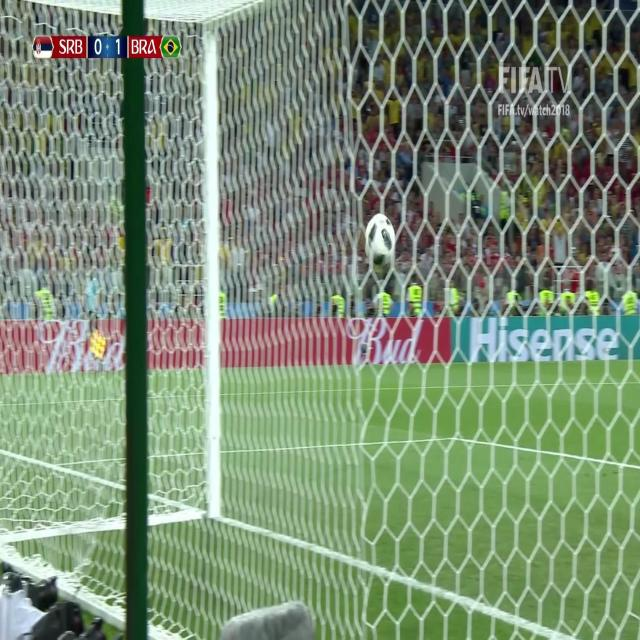ball: (359, 209, 400, 274)
